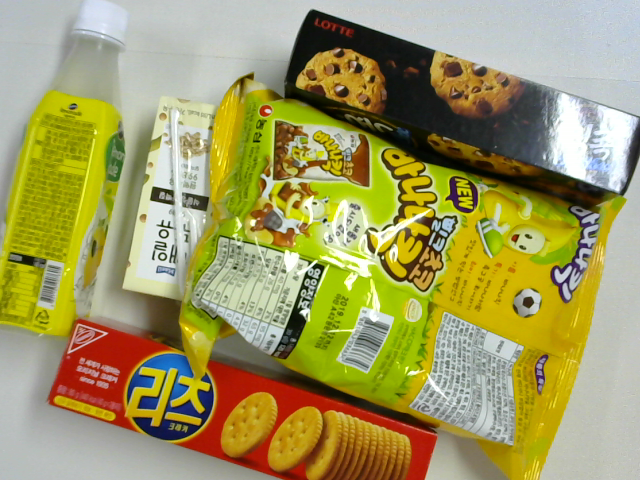99.89_Soymilk: (121, 95, 250, 303)
Banana_Kick: (180, 73, 629, 480)
Chicchok_Original_2400: (286, 9, 640, 205)
Ritz_Cracker: (46, 315, 440, 480)
Sunkist_Lemonaid_Pet: (1, 2, 130, 340)
